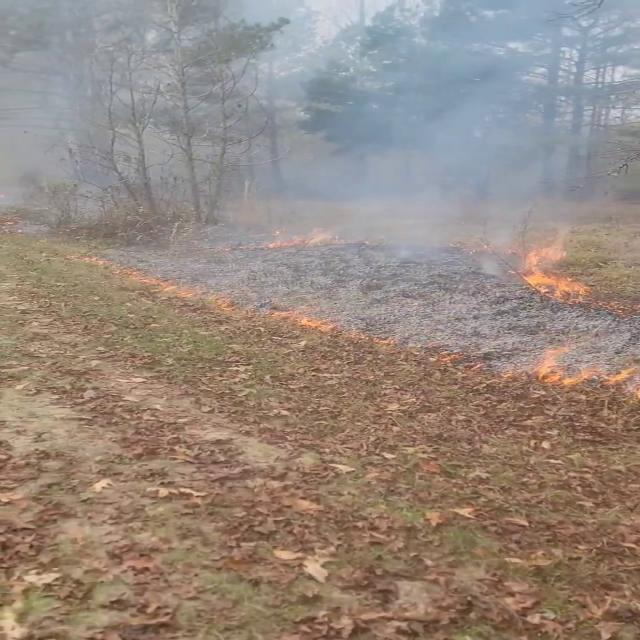Fire: (506, 232, 594, 304)
Smoke: (5, 0, 634, 300), (235, 0, 633, 296)
